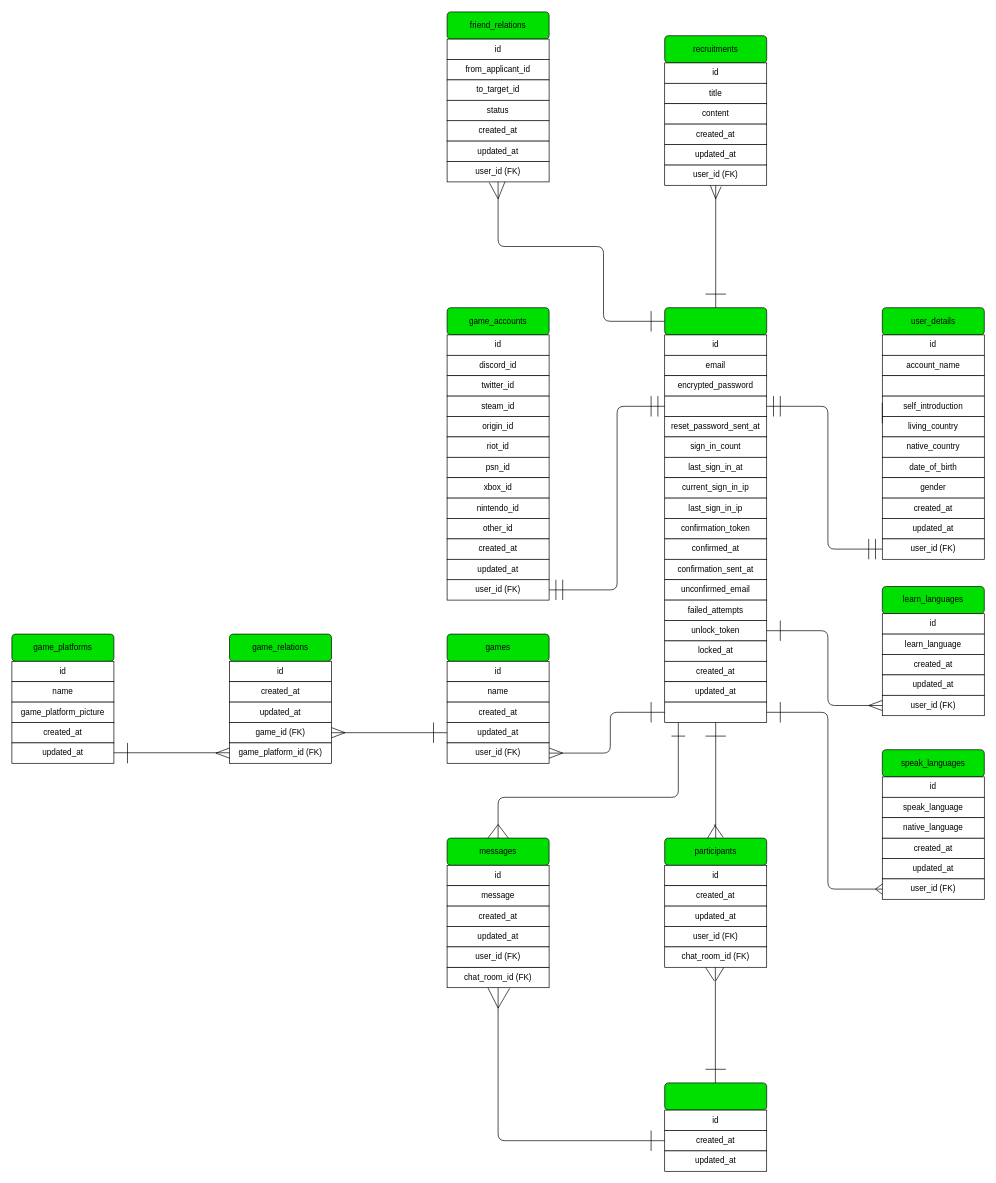
This 996x1183 diagram has some shape labels left out. Each missing label, with the box of its shape:
admin: (664, 701, 767, 722)
chat_rooms: (664, 1082, 767, 1110)
profile_picture: (882, 375, 984, 396)
reset_password_token: (664, 395, 767, 417)
users: (664, 307, 767, 335)
